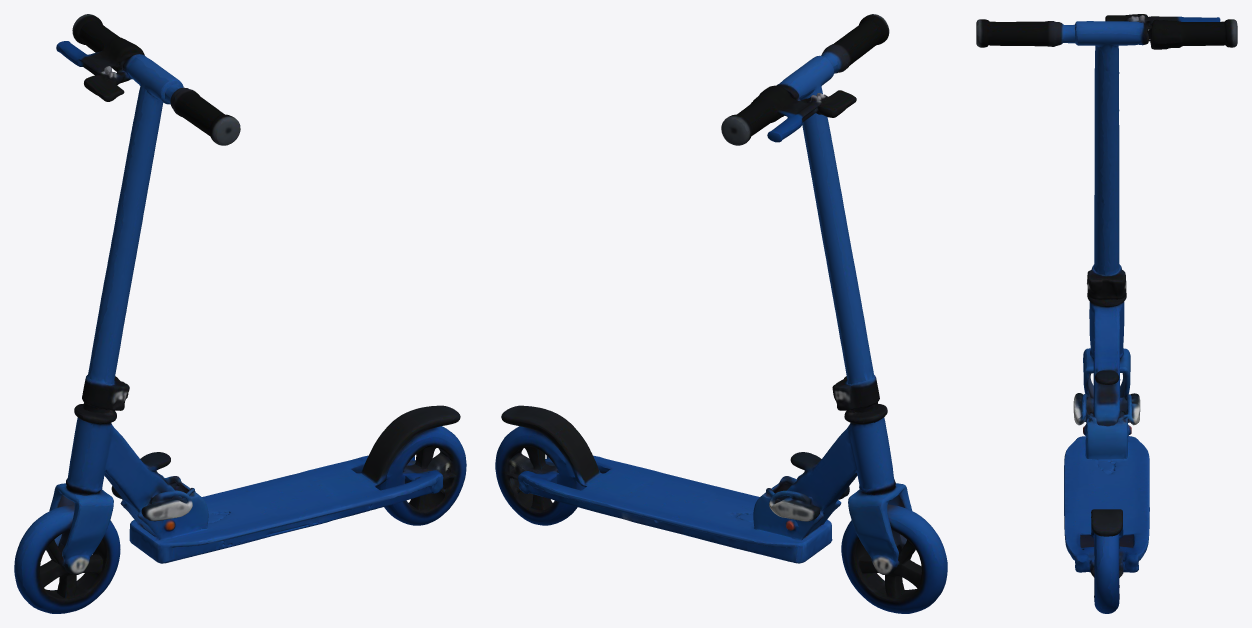
File: parts.glb
3 renders of one model, left to right at view 1: azimuth 30°, elevation 25°; view 2: azimuth 150°, elevation 25°; view 3: azimuth 270°, elevation 25°, orthographic. The views are drawn at different scales.
Bounding box in the file's own units: 0.8256 × 0.92 × 0.4606.
5 materials, 5 textured.
